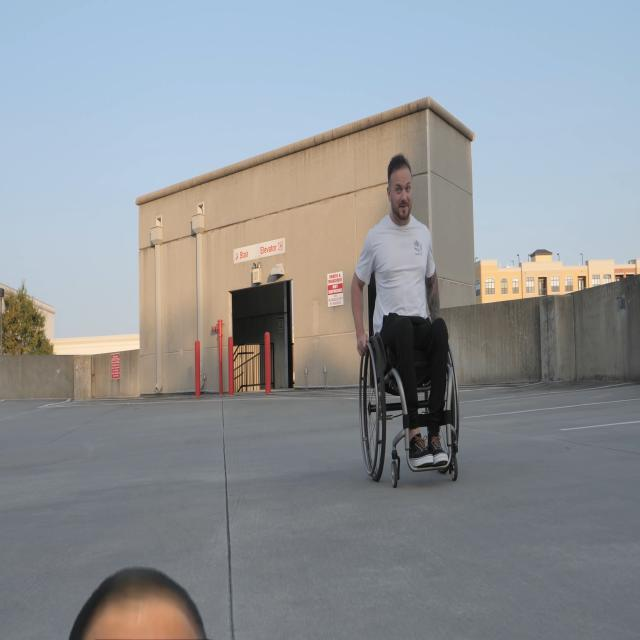wheelchairs: (358, 269, 460, 488)
